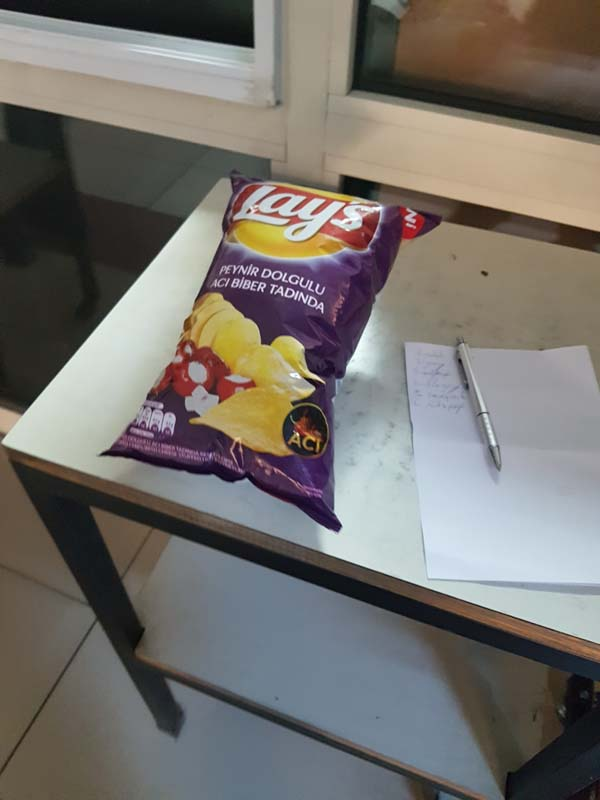layspeynirsoslu: (101, 168, 444, 530)
